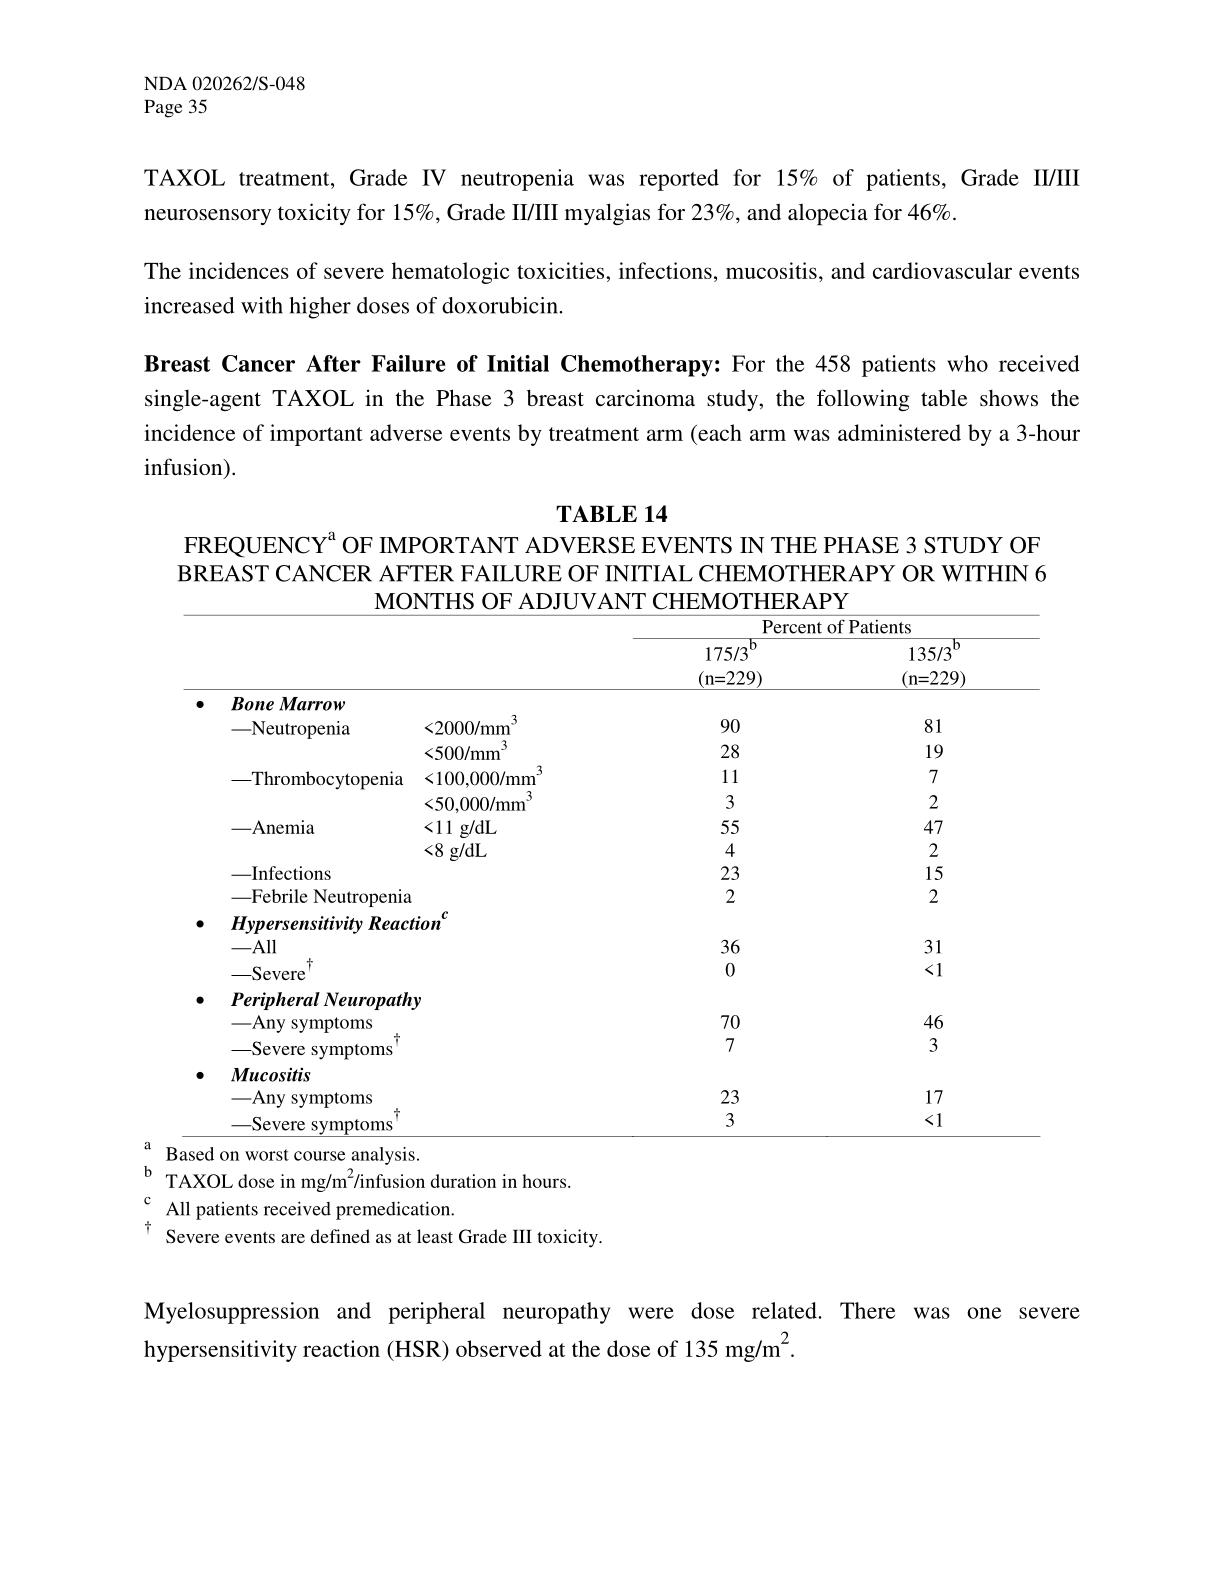partial_lined_merged_cells: (180, 613, 1041, 1137)
